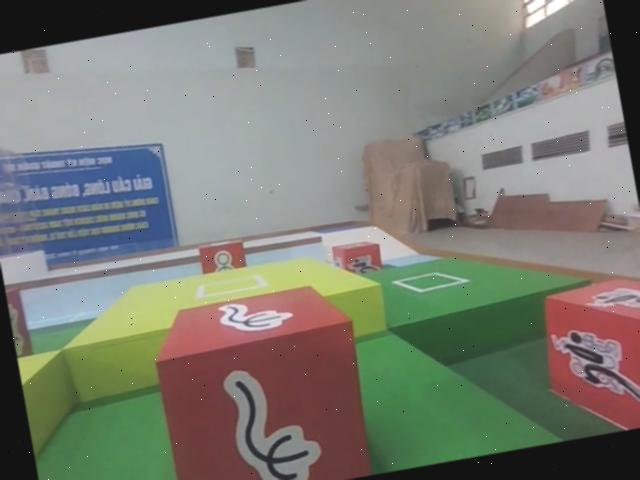R1: (531, 272, 640, 441), (328, 233, 386, 282)
R2 Real: (143, 275, 380, 480)
